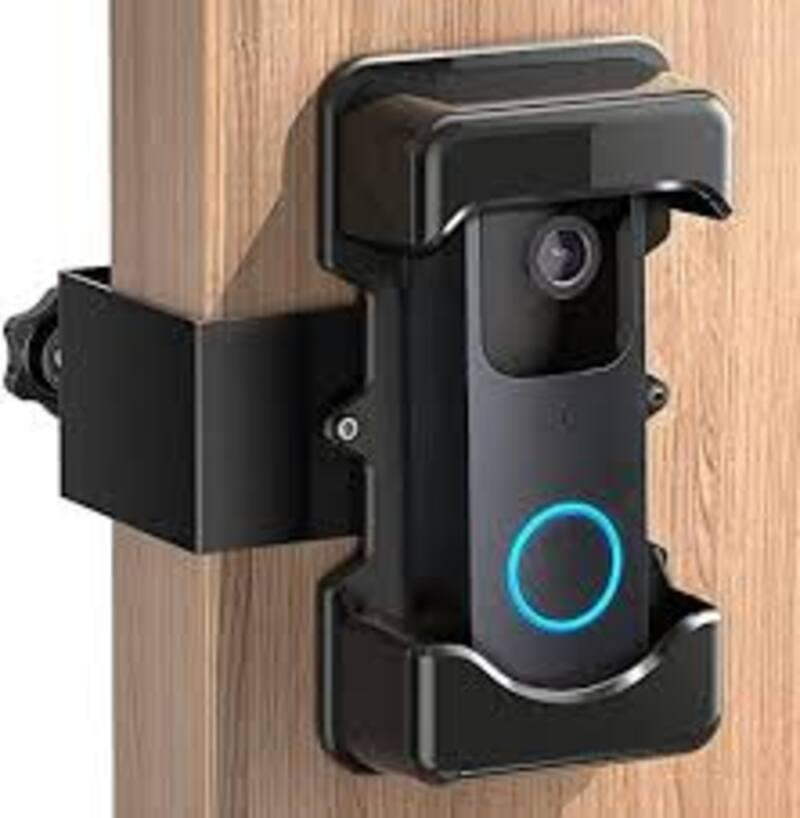doorbell: (471, 168, 653, 692)
